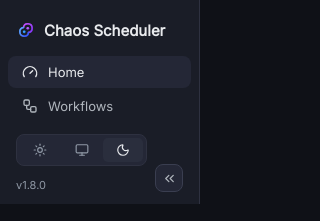
Test: Sidebar › toggles between expanded and collapsed layouts without hiding navigation names
This screenshot has width=320, height=221.
Click the button named "Collapse sidebar" at coordinates (169, 178), box [155, 164, 183, 192]
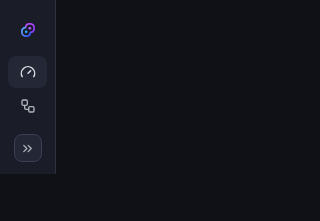
Expected: the button named "Home" is shown, [8, 56, 47, 88]
Now the button named "Expand sidebar" is collapsed, box [14, 134, 42, 162]
